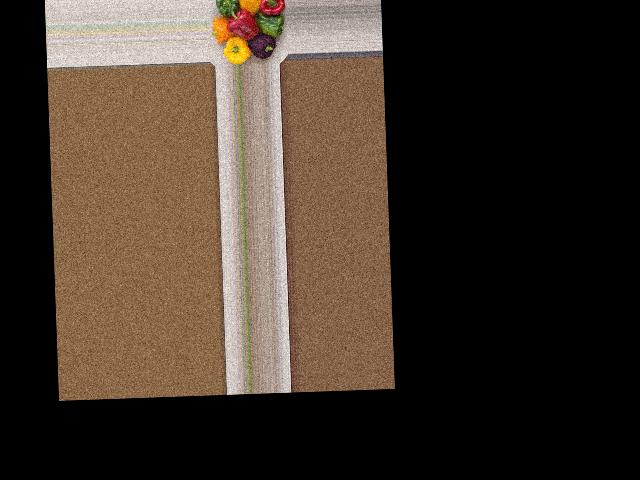bell_pepper: (247, 27, 283, 58)
